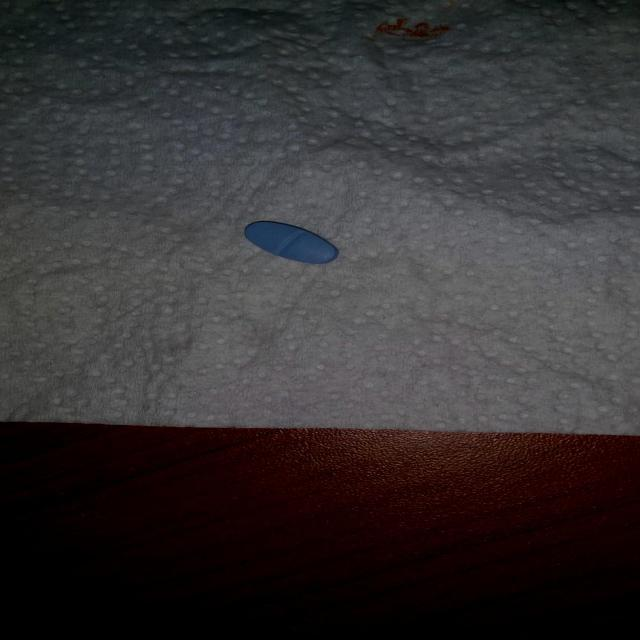pill: (232, 216, 350, 265)
